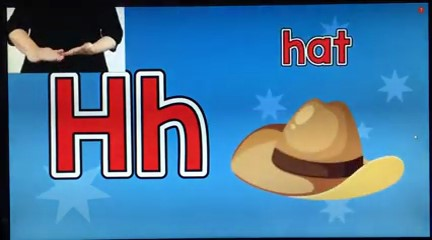H: (20, 26, 121, 66)
